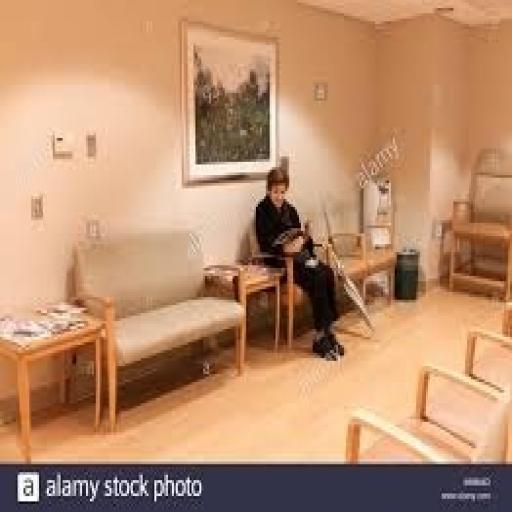sitting: (252, 162, 346, 361)
